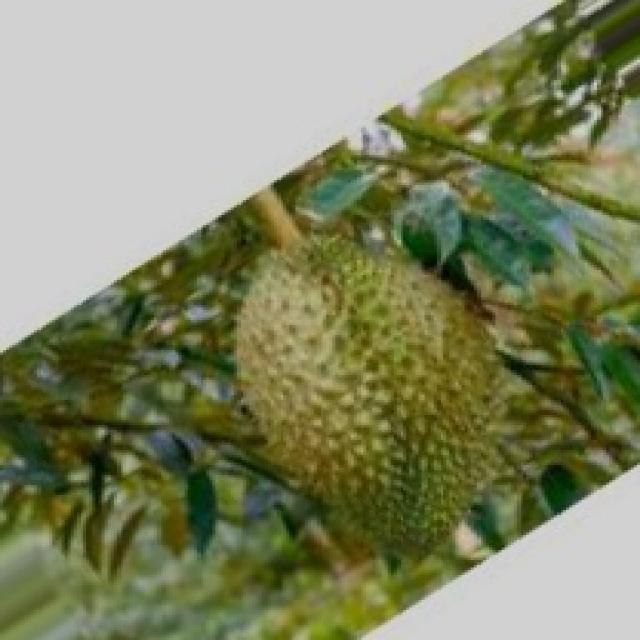fruit: (188, 198, 554, 602)
